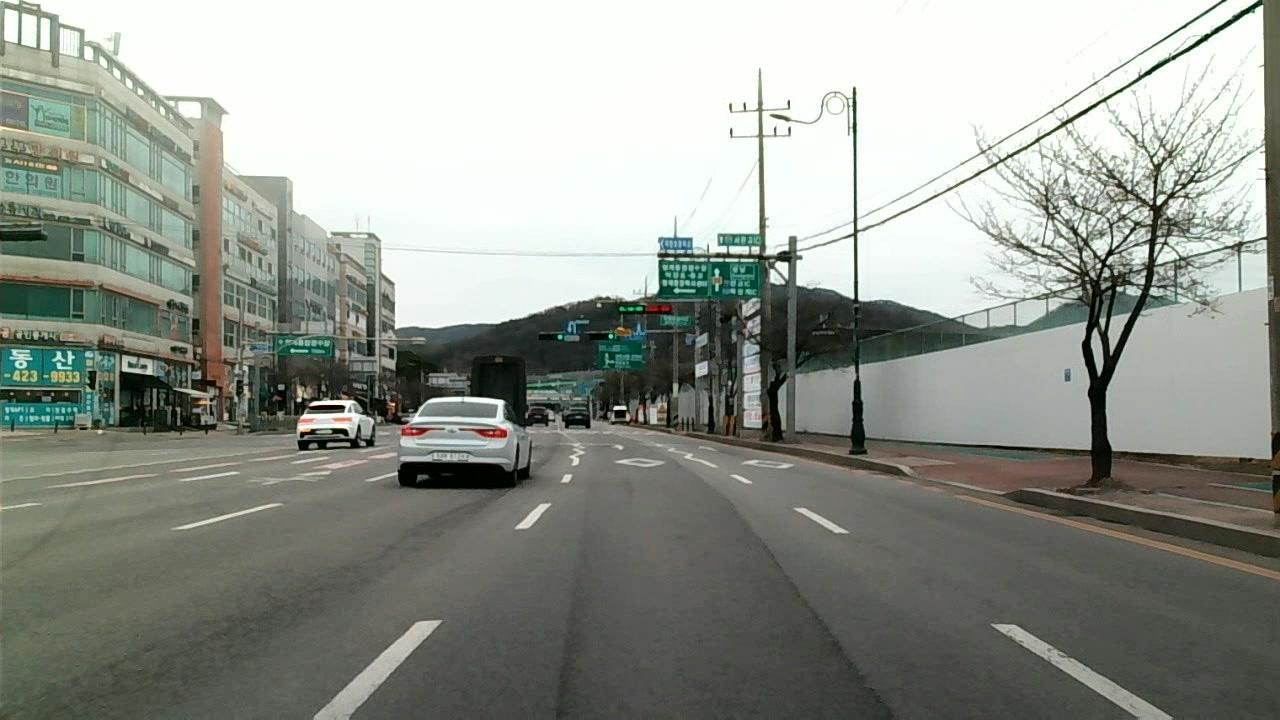banner: (790, 591, 894, 720), (737, 509, 798, 586)
